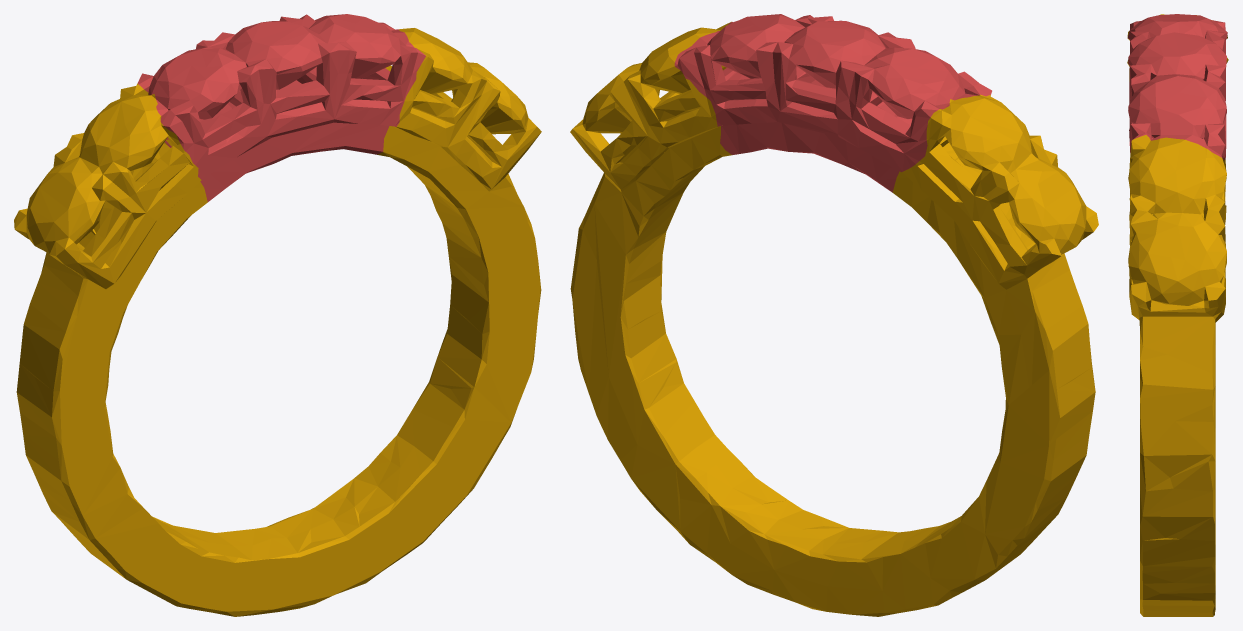
Rendered from fractured_62_2pcs.glb.
The picture shows the model from 3 angles, left to right: view 1: azimuth 30°, elevation 25°; view 2: azimuth 150°, elevation 25°; view 3: azimuth 270°, elevation 25°; orthographic projection. The views are drawn at different scales.
Visible parts, largest first — view 1: piece_0.obj, piece_1.obj; view 2: piece_0.obj, piece_1.obj; view 3: piece_0.obj, piece_1.obj.
Boxes of the visible parts, x1,y1,x2,y2 form: piece_0.obj: [14, 28, 541, 616]; piece_1.obj: [137, 14, 425, 201]; piece_0.obj: [570, 21, 1098, 616]; piece_1.obj: [674, 14, 991, 192]; piece_0.obj: [1127, 14, 1228, 616]; piece_1.obj: [1127, 14, 1227, 159].
Size of the model in its own units: 0.91 by 1 by 0.1681.
